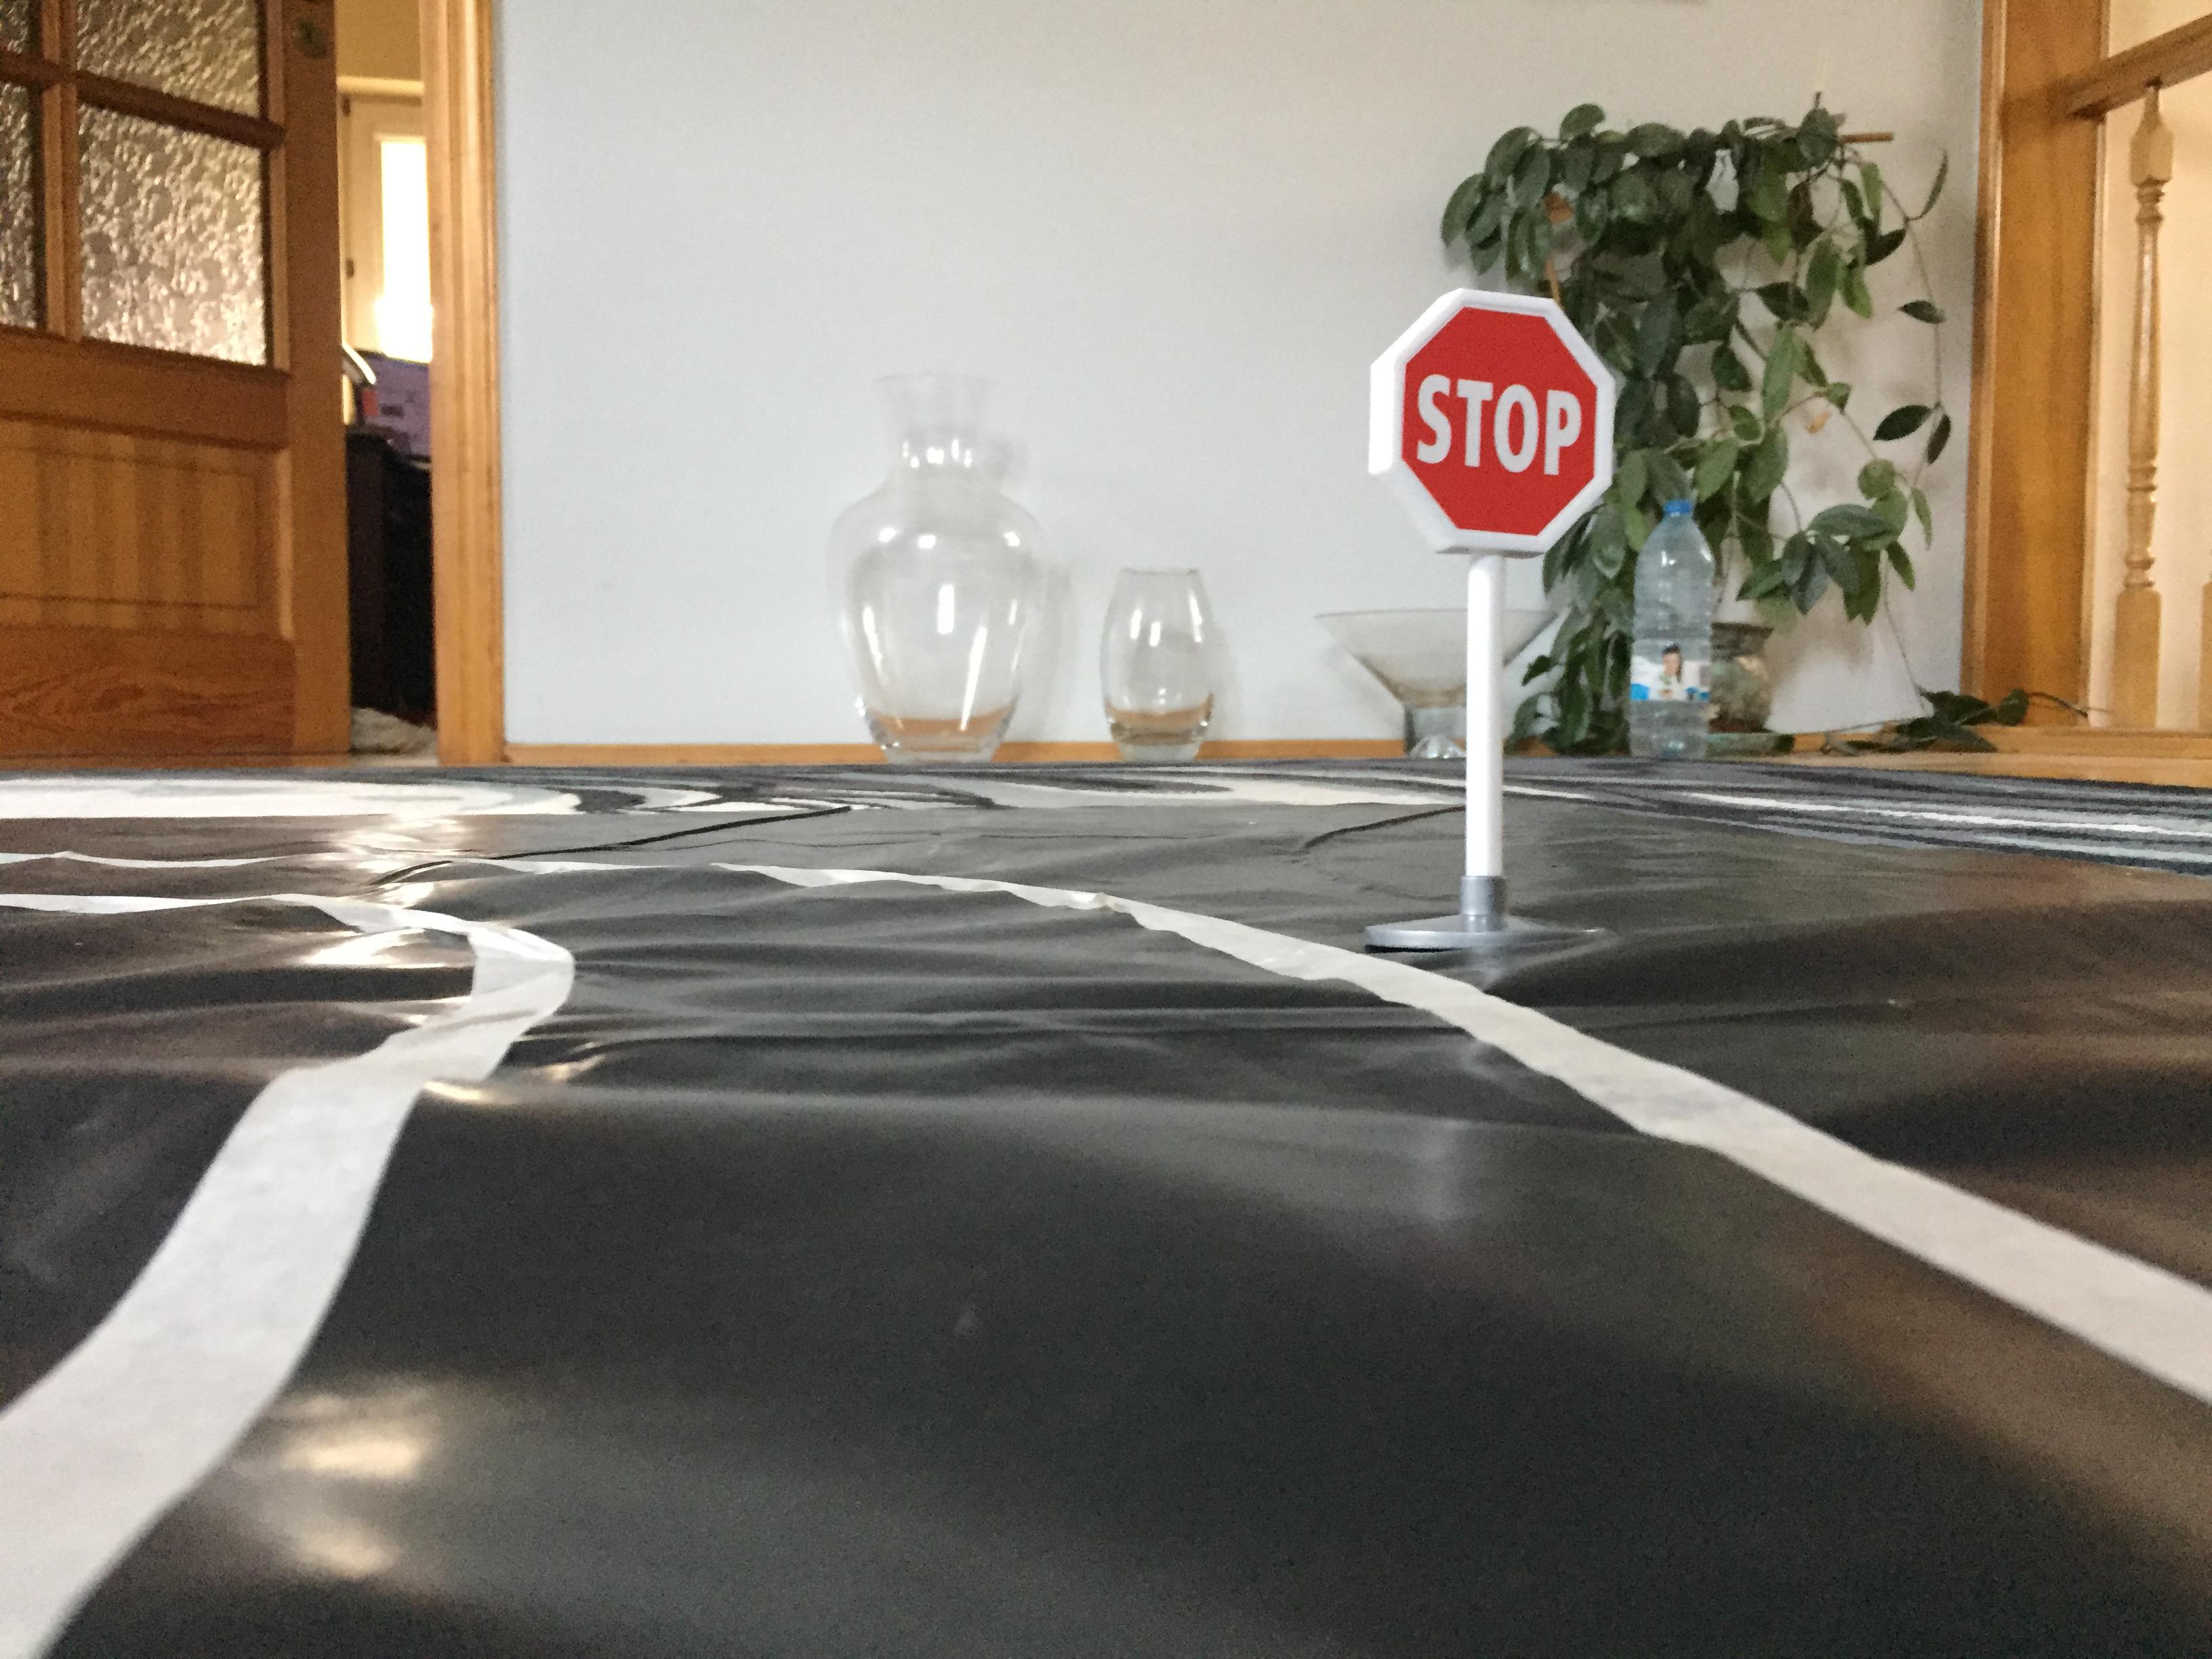stop: (1362, 284, 1620, 572)
